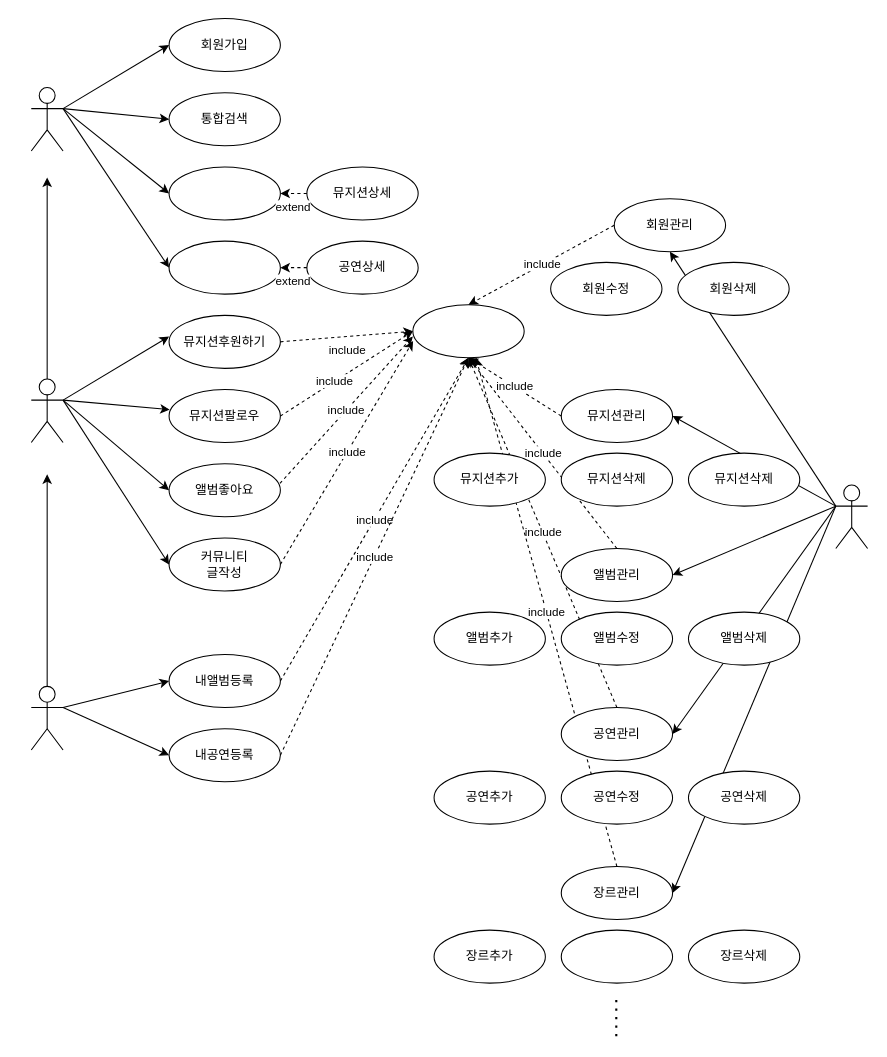
Some shapes in this 887 by 1057 pixel diagram are drawn without their labels. Here are the shapes that lost their labels. From the top down, the centre of each, then its label:
point 46,118: 사용자
point 224,193: 뮤지션검색
point 224,267: 공연검색
point 468,331: 사용자인증
point 46,410: 일반회원
point 851,516: 관리자
point 46,717: 뮤지션회원
point 616,956: 장르수정
